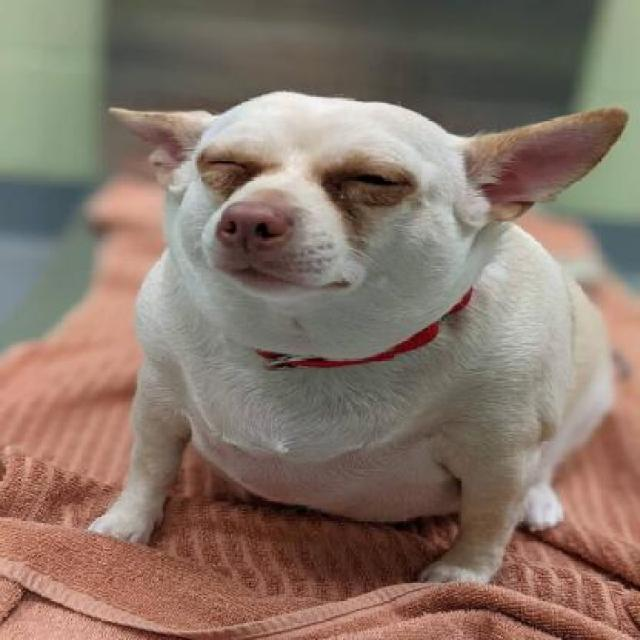Dog: (80, 88, 631, 589)
